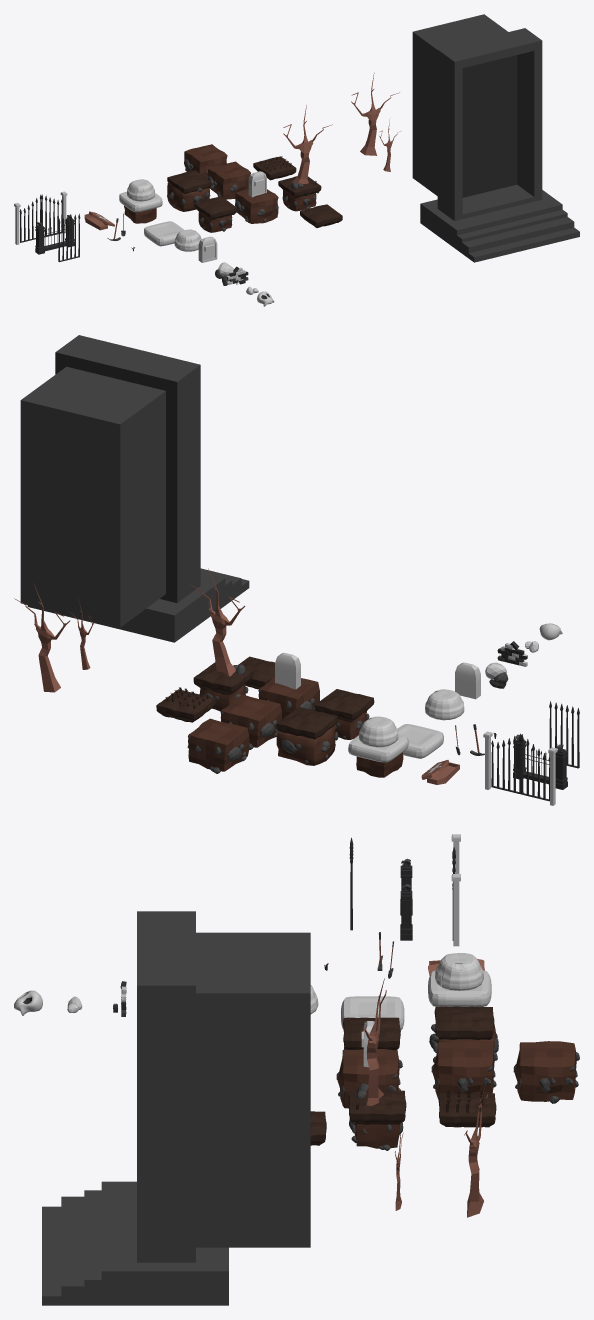
Rendered from Stage2-Graveyard.fbx.
3 renders of one model, top to bottom at view 1: azimuth 30°, elevation 25°; view 2: azimuth 150°, elevation 25°; view 3: azimuth 270°, elevation 25°, orthographic. The views are drawn at different scales.
Visible parts, largest first — view 1: Tomb, groundDirt2.001, TombStoneGround, SmallGroundBlock, block.020, Gate.001, brown2.016, dirtGround2, brown2.001, StatueFence.001, StoneBlock, largeTree (+5 smaller); view 2: Tomb, SmallGroundBlock, groundDirt2.001, block.020, brown2.001, Gate.001, TombStoneGround, brown2.016, dirtGround2, deadGrassGround, StatueFence.001, largeTree (+6 smaller); view 3: Tomb, groundDirt2.001, brown2.001, brown2.016, block.020, TombStoneGround, SmallGroundBlock, deadGrassGround, dirtGround2, StoneBlock, largeTree, StatueFence.001 (+1 smaller).
Boxes of the visible parts, x1,y1,x2,y2 form: Tomb: [412, 14, 579, 262]; groundDirt2.001: [278, 105, 332, 211]; TombStoneGround: [235, 171, 278, 223]; SmallGroundBlock: [167, 170, 213, 211]; block.020: [119, 179, 162, 223]; Gate.001: [14, 191, 67, 244]; brown2.016: [207, 161, 250, 199]; dirtGround2: [194, 196, 237, 232]; brown2.001: [184, 144, 227, 178]; StatueFence.001: [35, 214, 74, 254]; StoneBlock: [144, 221, 184, 246]; largeTree: [351, 72, 399, 155]; Tomb: [20, 335, 249, 642]; SmallGroundBlock: [276, 707, 338, 765]; groundDirt2.001: [189, 568, 253, 711]; block.020: [348, 716, 408, 777]; brown2.001: [187, 718, 249, 773]; Gate.001: [483, 731, 557, 805]; TombStoneGround: [258, 652, 319, 718]; brown2.016: [220, 694, 281, 749]; dirtGround2: [314, 689, 374, 739]; deadGrassGround: [156, 687, 215, 722]; StatueFence.001: [513, 734, 567, 789]; largeTree: [14, 583, 70, 692]; Tomb: [42, 911, 310, 1305]; groundDirt2.001: [348, 978, 406, 1150]; brown2.001: [513, 1041, 579, 1103]; brown2.016: [431, 1041, 497, 1098]; block.020: [428, 953, 491, 1006]; TombStoneGround: [336, 1021, 402, 1108]; SmallGroundBlock: [429, 1006, 498, 1062]; deadGrassGround: [438, 1090, 496, 1127]; dirtGround2: [343, 1017, 400, 1052]; StoneBlock: [341, 996, 404, 1030]; largeTree: [464, 1082, 487, 1217]; StatueFence.001: [400, 858, 412, 940].
Size of the model in its own units: 42.14 by 16.18 by 26.67.
